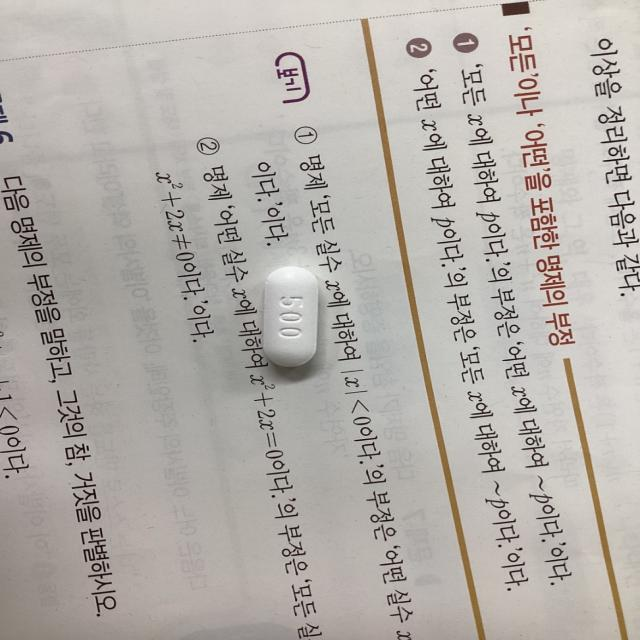-: (255, 261, 331, 378)
